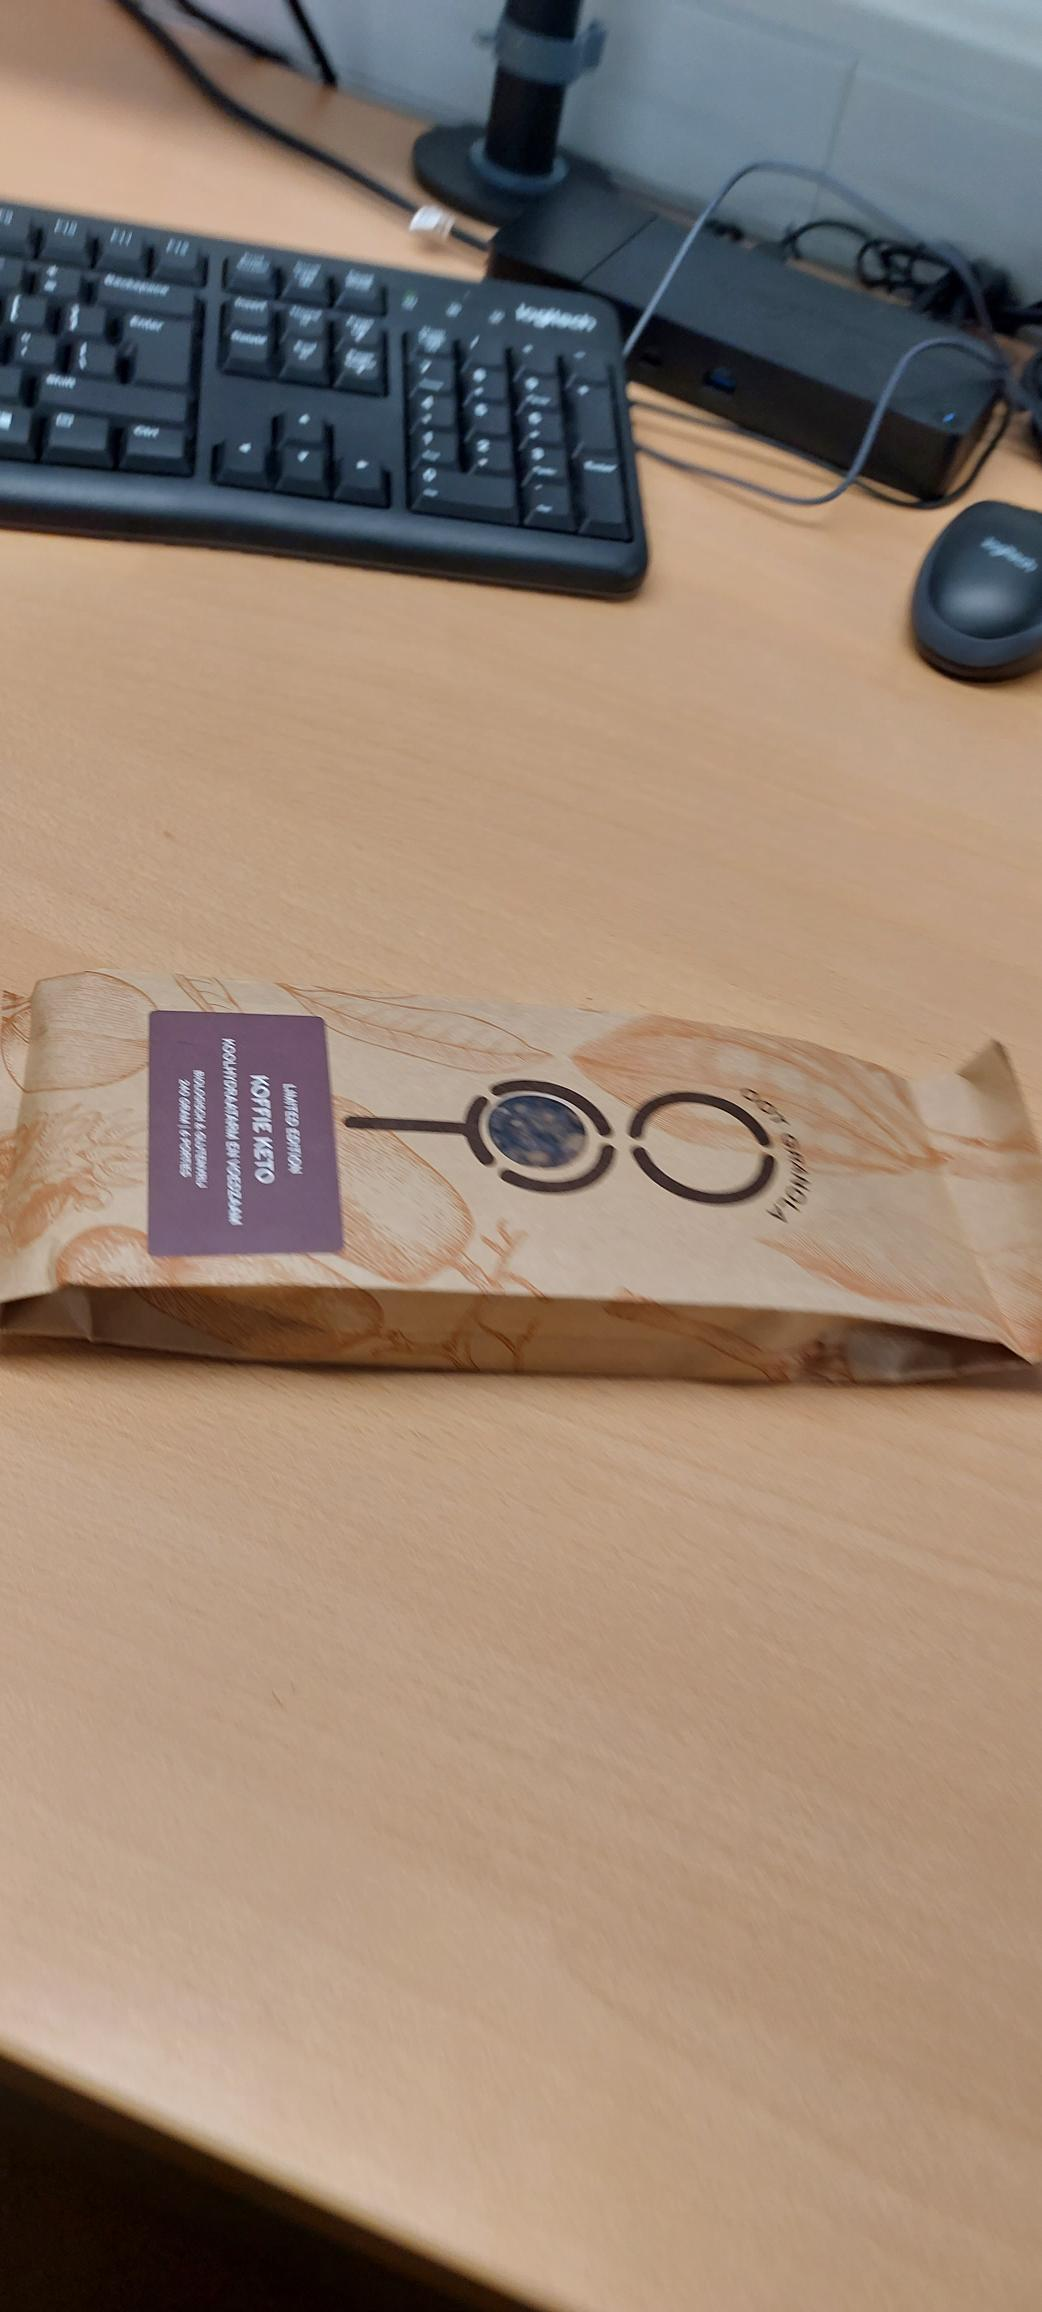KoffieKeto: (128, 1004, 357, 1267)
